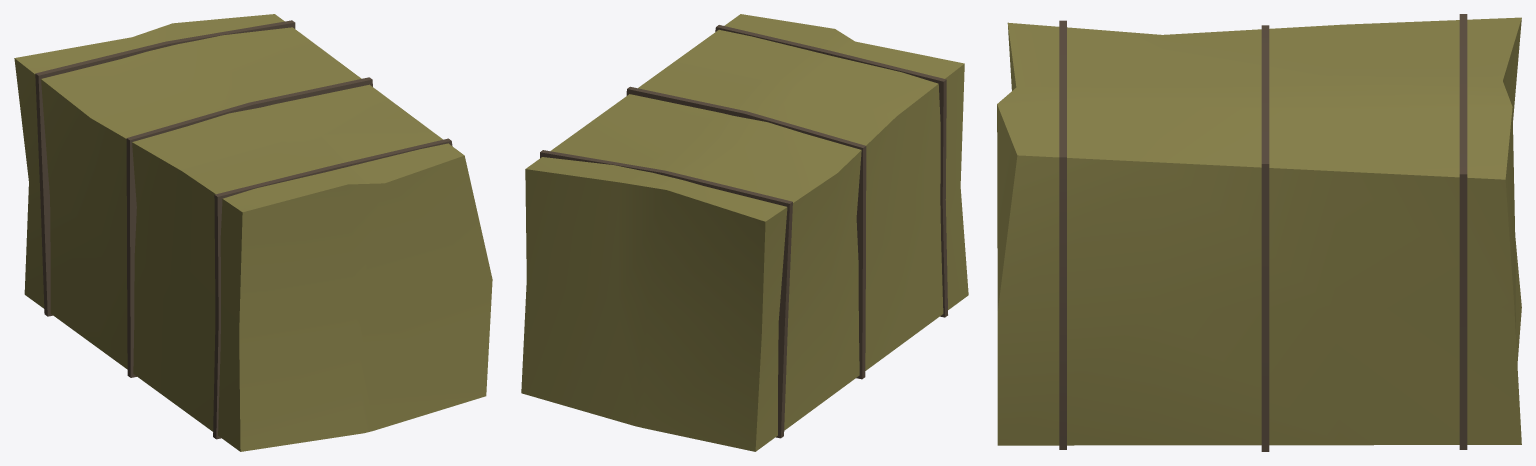
File: Hay.fbx
The picture shows the model from 3 angles, left to right: view 1: azimuth 30°, elevation 25°; view 2: azimuth 150°, elevation 25°; view 3: azimuth 270°, elevation 25°; orthographic projection. The views are drawn at different scales.
Parts seen in each view (by area): view 1: Hay2; view 2: Hay2; view 3: Hay2.
Boxes of the visible parts, box(x1,y1,x2,y2) form: Hay2: box(14, 14, 492, 451); Hay2: box(521, 14, 968, 451); Hay2: box(997, 14, 1521, 451).
Bounding box in the file's own units: 1.44 × 1.31 × 2.11.
